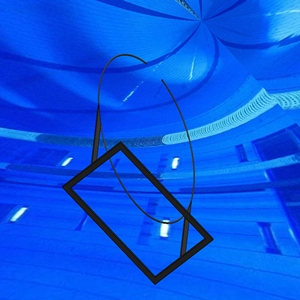circle: (61, 53, 215, 287)
